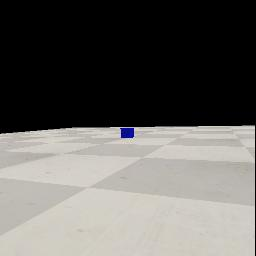box: (120, 128, 134, 138)
